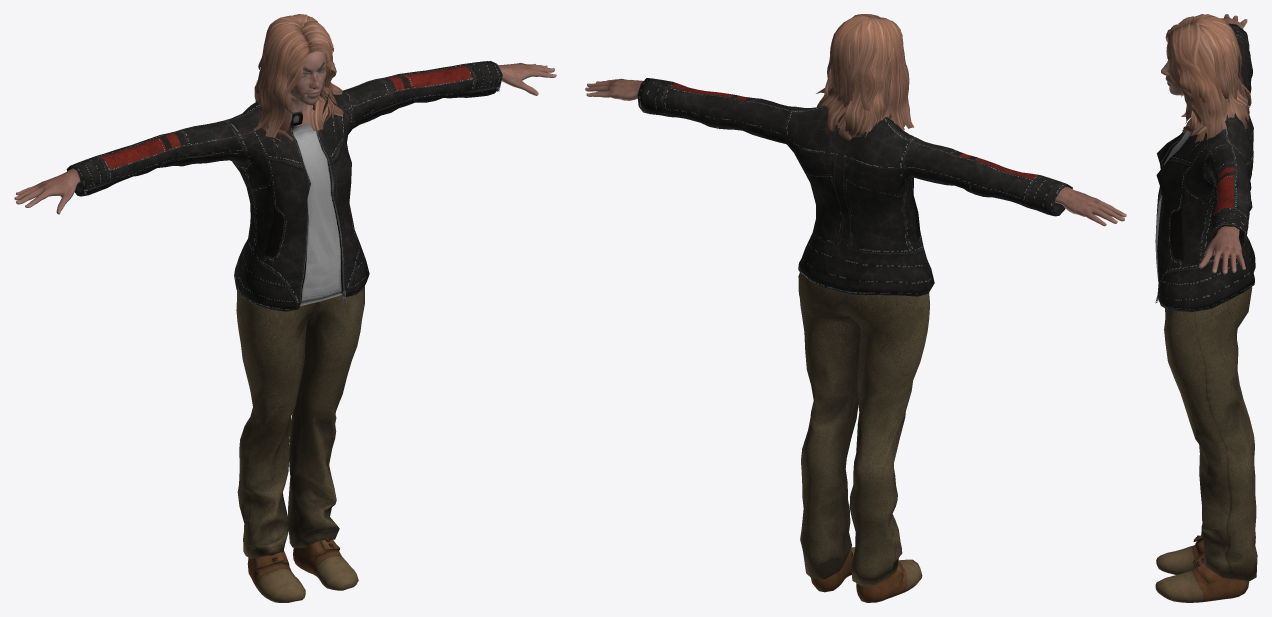
File: Woman B.obj
3 renders of one model, left to right at view 1: azimuth 30°, elevation 25°; view 2: azimuth 150°, elevation 25°; view 3: azimuth 270°, elevation 25°, orthographic.
Visible parts, largest first — view 1: Tops, Bottoms, Hair, Shoes, Body; view 2: Tops, Bottoms, Hair, Body, Shoes; view 3: Bottoms, Tops, Hair, Shoes, Body.
Boxes of the visible parts, left/top/right/bottom form: Tops: left=66, top=61, right=502, bottom=311; Bottoms: left=236, top=286, right=364, bottom=558; Hair: left=253, top=14, right=343, bottom=142; Shoes: left=247, top=538, right=358, bottom=602; Body: left=14, top=51, right=556, bottom=214; Tops: left=637, top=78, right=1072, bottom=296; Bottoms: left=798, top=273, right=929, bottom=586; Hair: left=816, top=14, right=914, bottom=141; Body: left=585, top=78, right=1126, bottom=226; Shoes: left=811, top=547, right=922, bottom=602; Bottoms: left=1164, top=287, right=1257, bottom=580; Tops: left=1155, top=23, right=1255, bottom=311; Hair: left=1165, top=14, right=1251, bottom=142; Shoes: left=1155, top=535, right=1249, bottom=602; Body: left=1161, top=14, right=1247, bottom=274.
Bounding box in the file's own units: 180 × 181 × 29.75.
Materials: 5 (5 with a texture image).
